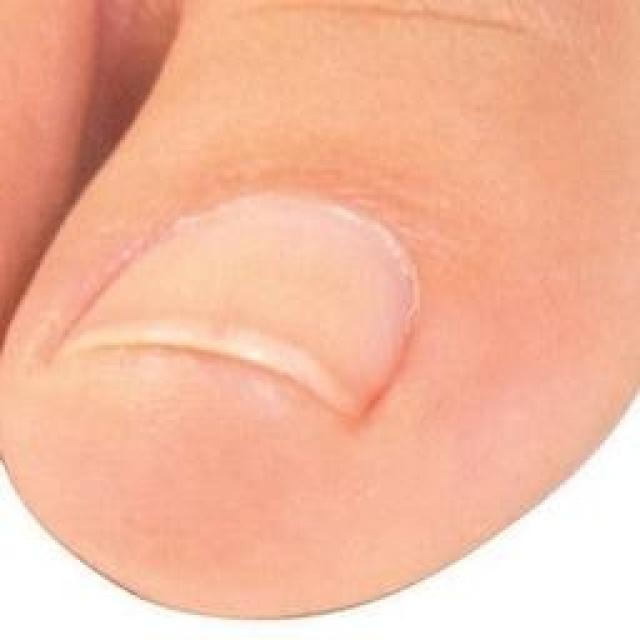Nail: (49, 202, 417, 419)
